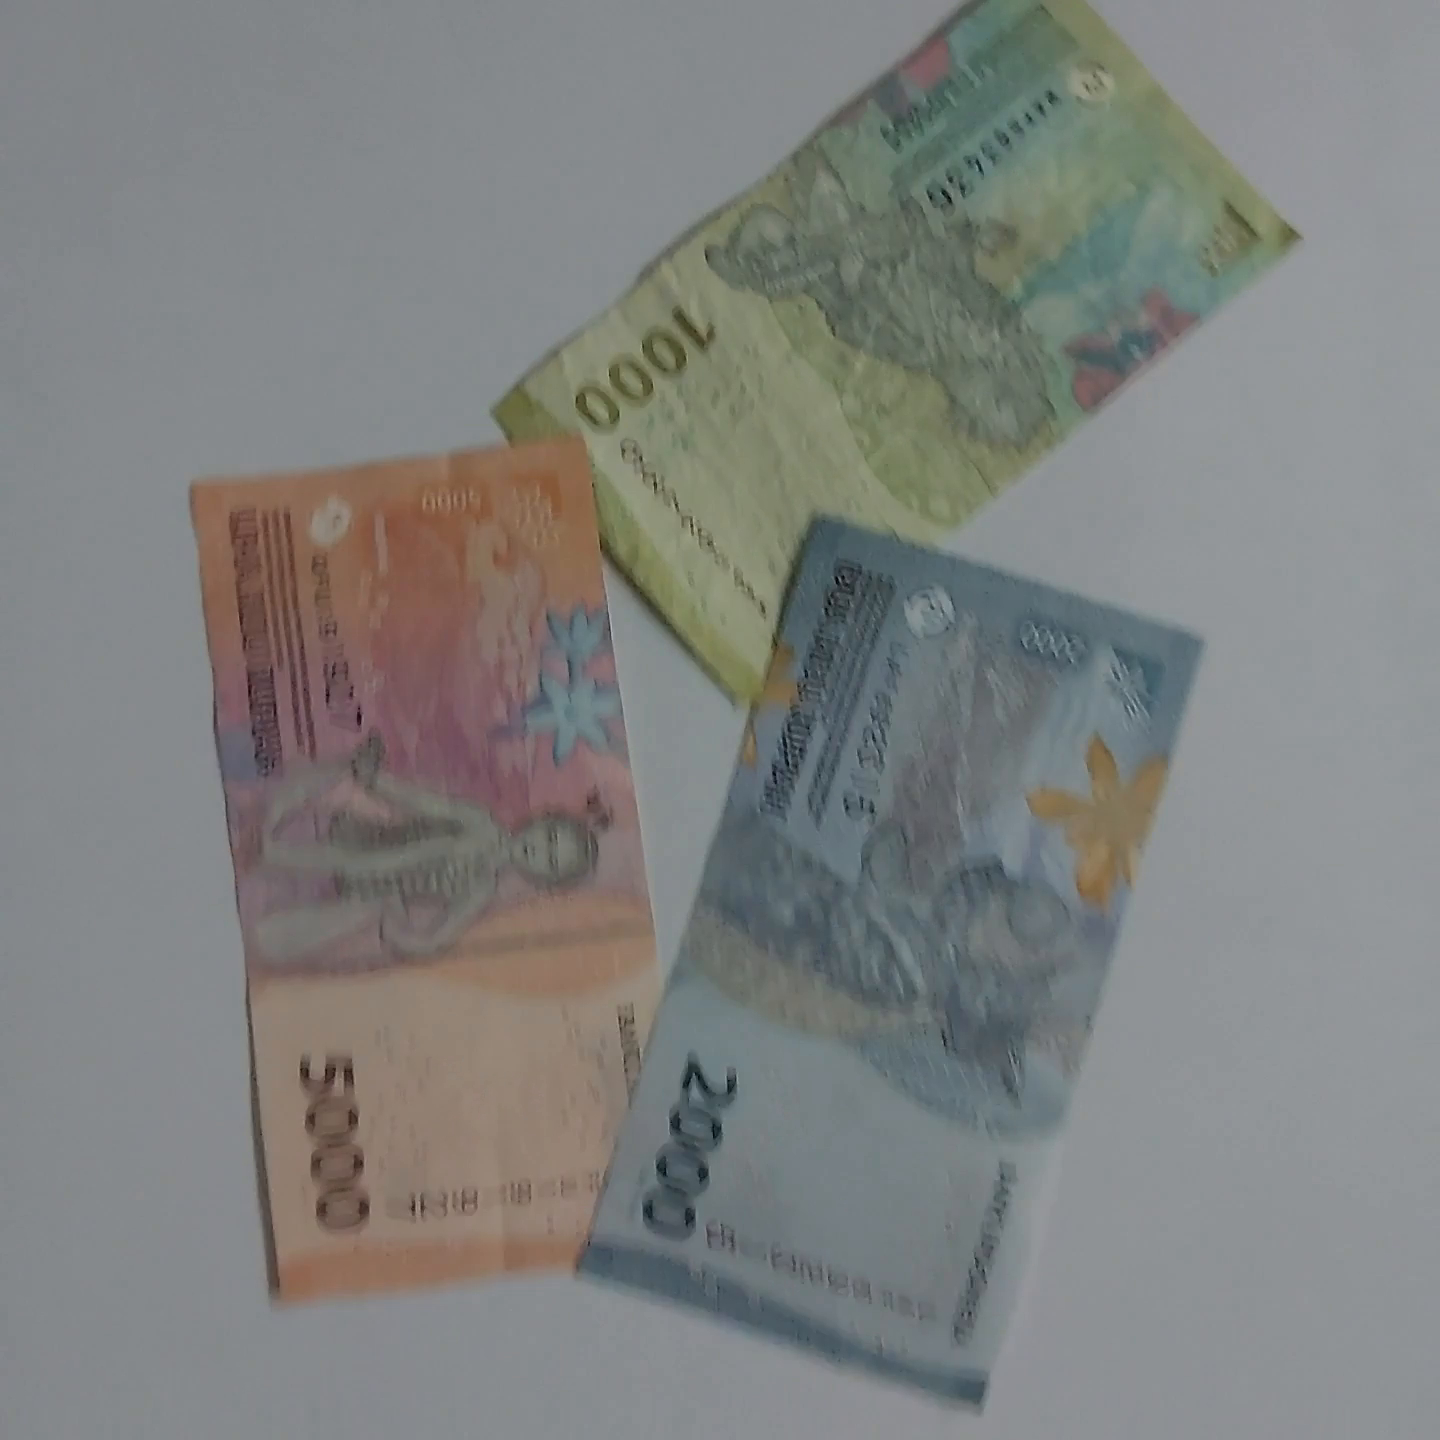1k: (360, 0, 1391, 679)
2k: (584, 514, 1246, 1381)
5k: (99, 386, 671, 1319)
